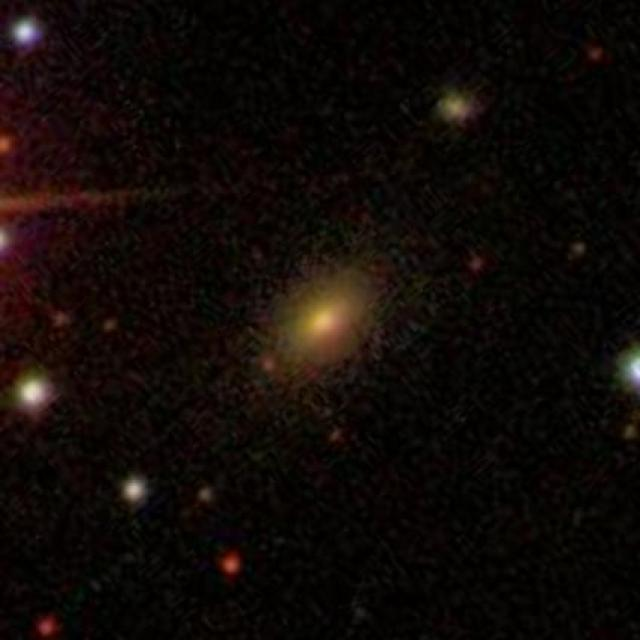galaxy: (225, 239, 412, 416), (7, 363, 60, 420), (431, 90, 484, 130), (606, 342, 640, 401), (10, 10, 46, 58), (118, 473, 153, 509), (31, 614, 63, 640), (217, 551, 246, 579), (50, 307, 77, 331), (582, 43, 610, 66), (259, 355, 285, 379), (324, 424, 348, 448), (619, 419, 640, 446), (469, 248, 487, 277), (197, 483, 217, 507), (103, 311, 120, 339), (1, 131, 17, 159), (568, 238, 590, 256)
star: (1, 96, 223, 342)
